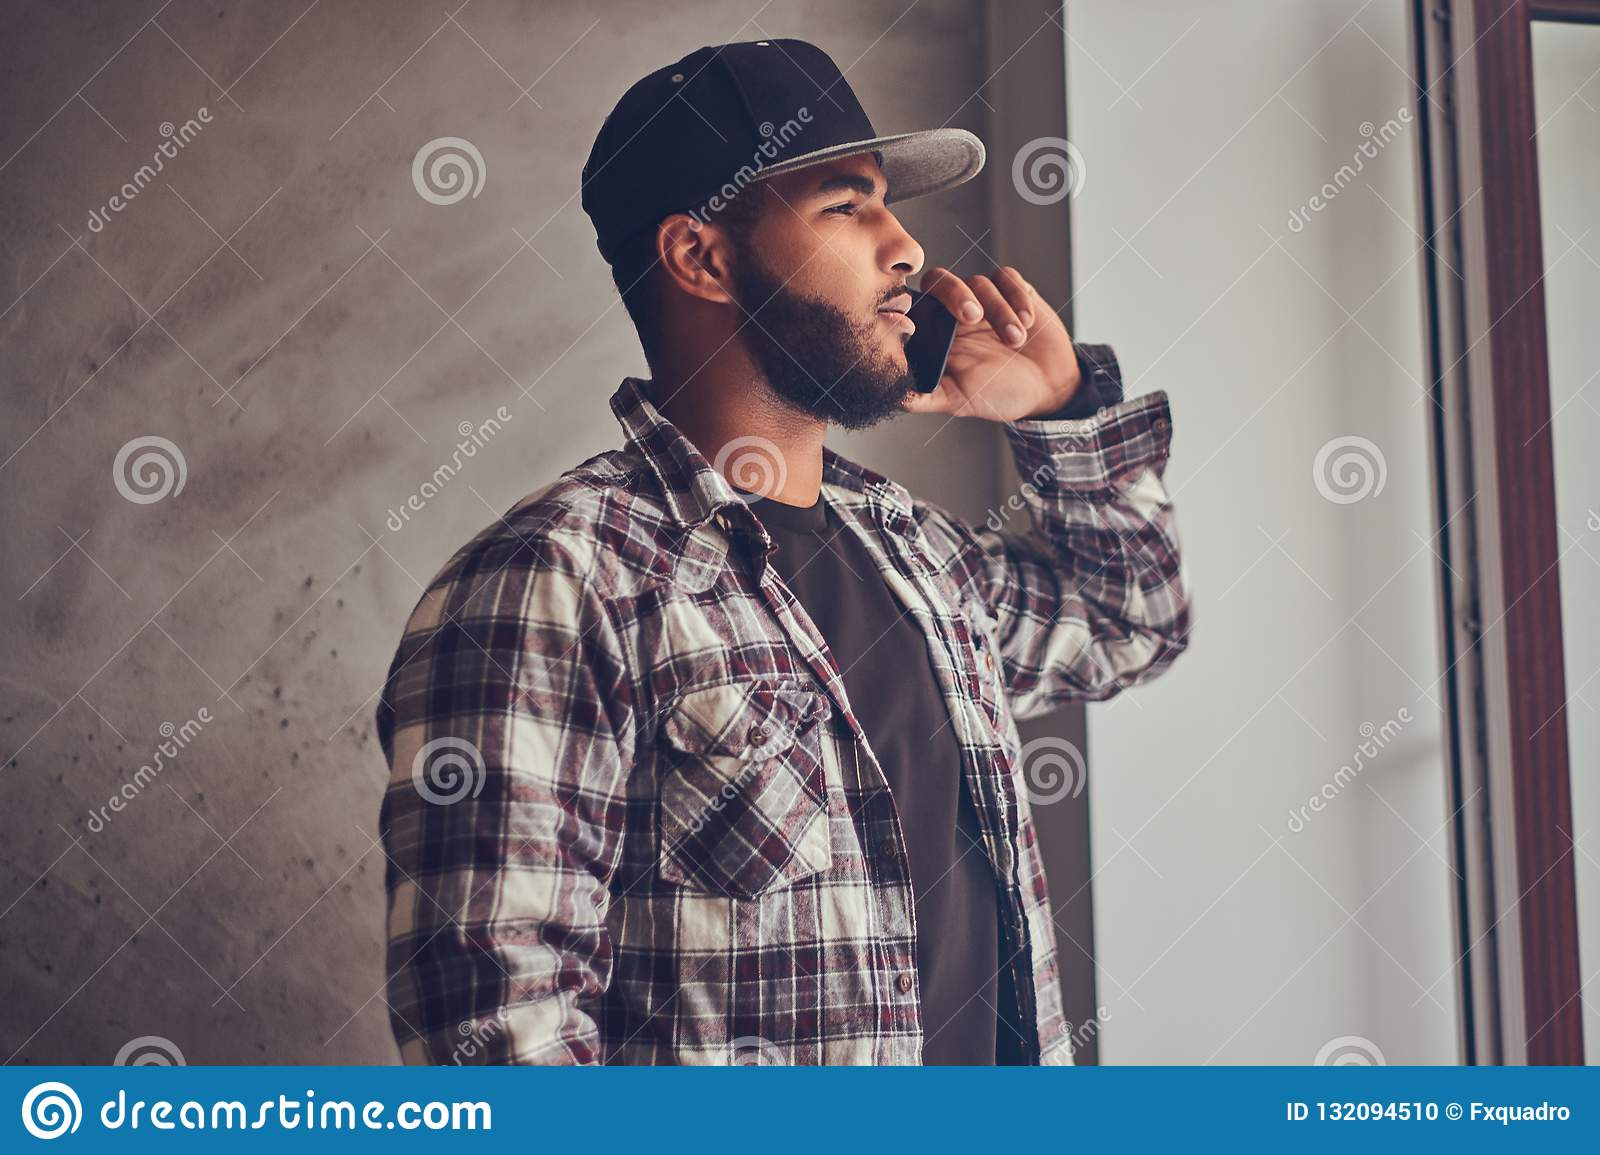phone: (901, 279, 969, 395)
talk: (812, 171, 1076, 425)
